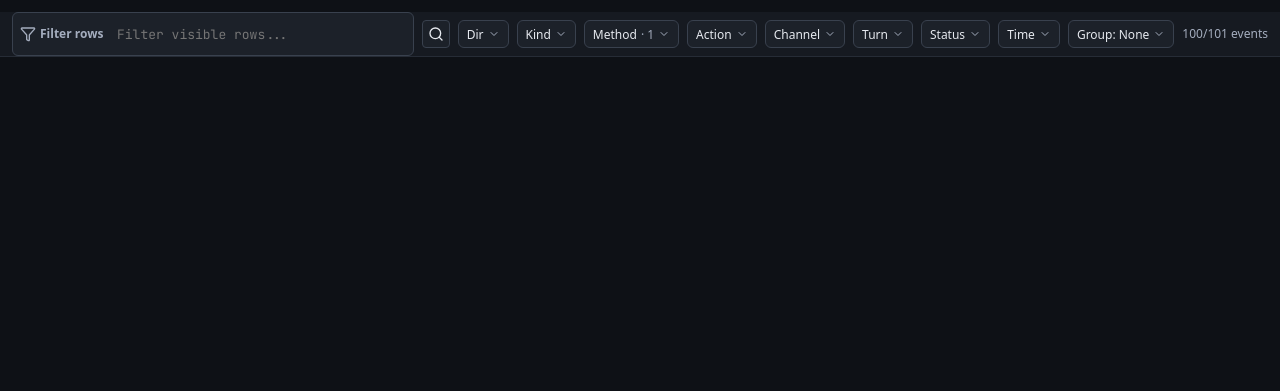
Test: FilterBar › keeps the complete-set action independent of local query and the 100-row cap
Click the button "Method · 1" at (631,34), box left=584, top=20, right=679, bottom=48
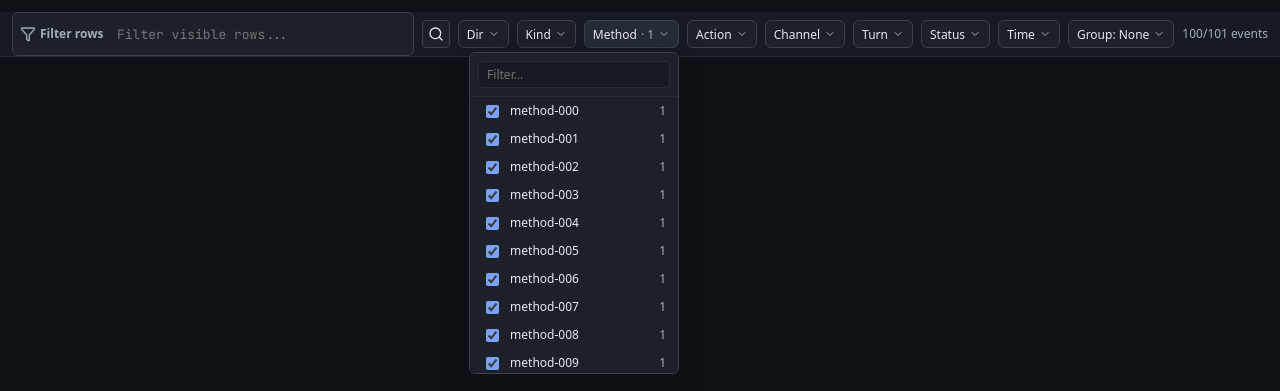
Type "method-000" into the field with placeholder "Filter…" at (574,74), box left=478, top=61, right=670, bottom=88
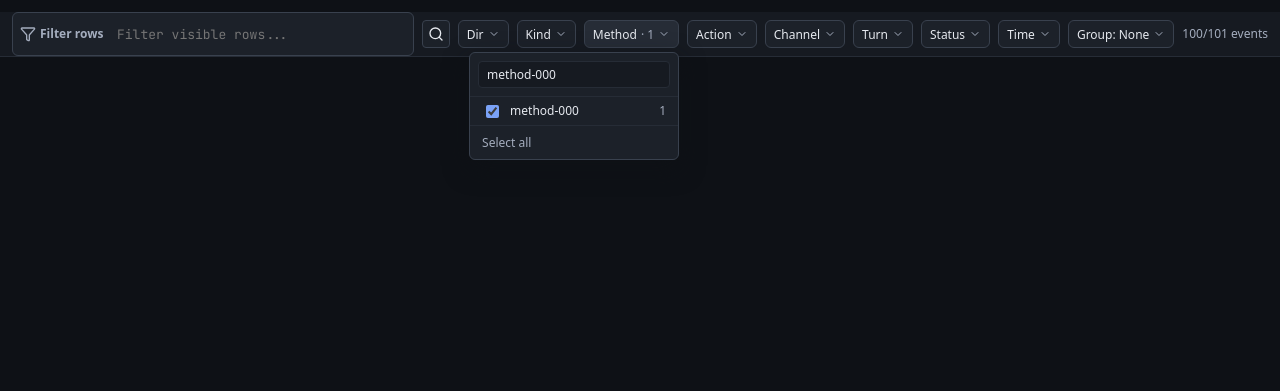
Now the number of checkboxes is 1, box left=486, top=104, right=499, bottom=118
Click the button "Select all" at (507,142), box left=478, top=130, right=536, bottom=155
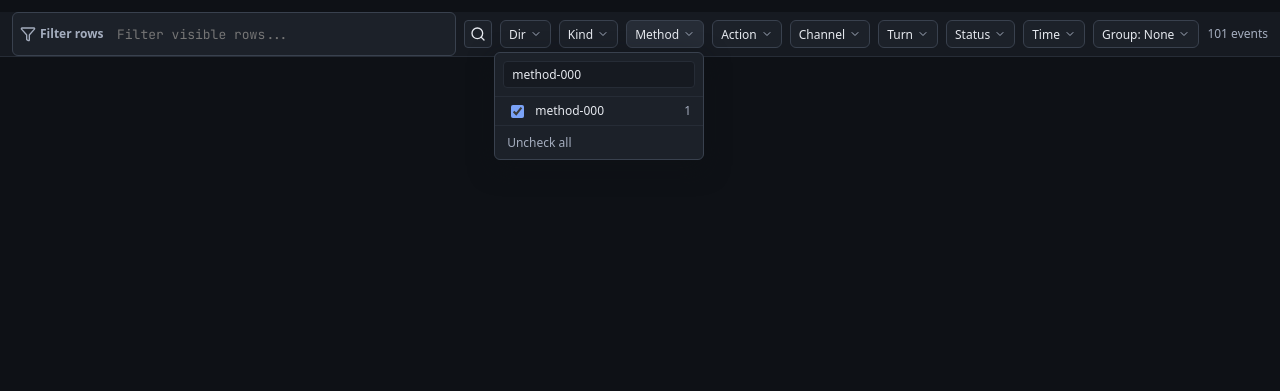
Now the button "Uncheck all" is shown, box left=503, top=130, right=576, bottom=155
